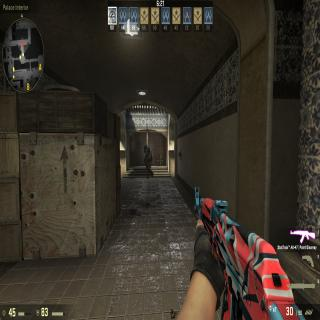CT-Body: (146, 146, 153, 180), (144, 144, 148, 168)
CT-Head: (147, 146, 150, 152), (144, 143, 147, 149)
